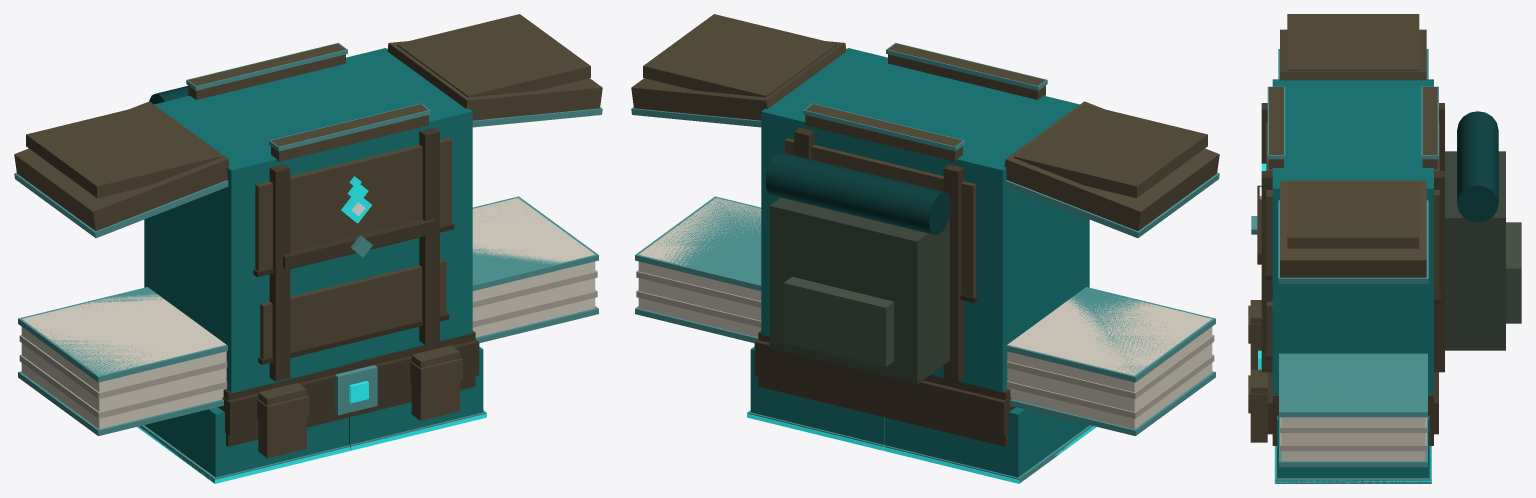
The picture shows the model from 3 angles, left to right: view 1: azimuth 30°, elevation 25°; view 2: azimuth 150°, elevation 25°; view 3: azimuth 270°, elevation 25°; orthographic projection. The views are drawn at different scales.
Visible parts, largest first — view 1: rank-survivor-c; view 2: rank-survivor-c; view 3: rank-survivor-c.
Part boxes in pixels (x1=…): rank-survivor-c: x1=14, y1=14, x2=602, y2=483; rank-survivor-c: x1=631, y1=14, x2=1219, y2=483; rank-survivor-c: x1=1248, y1=14, x2=1521, y2=483.
Size of the model in its own units: 1.16 by 0.7073 by 0.5813.
